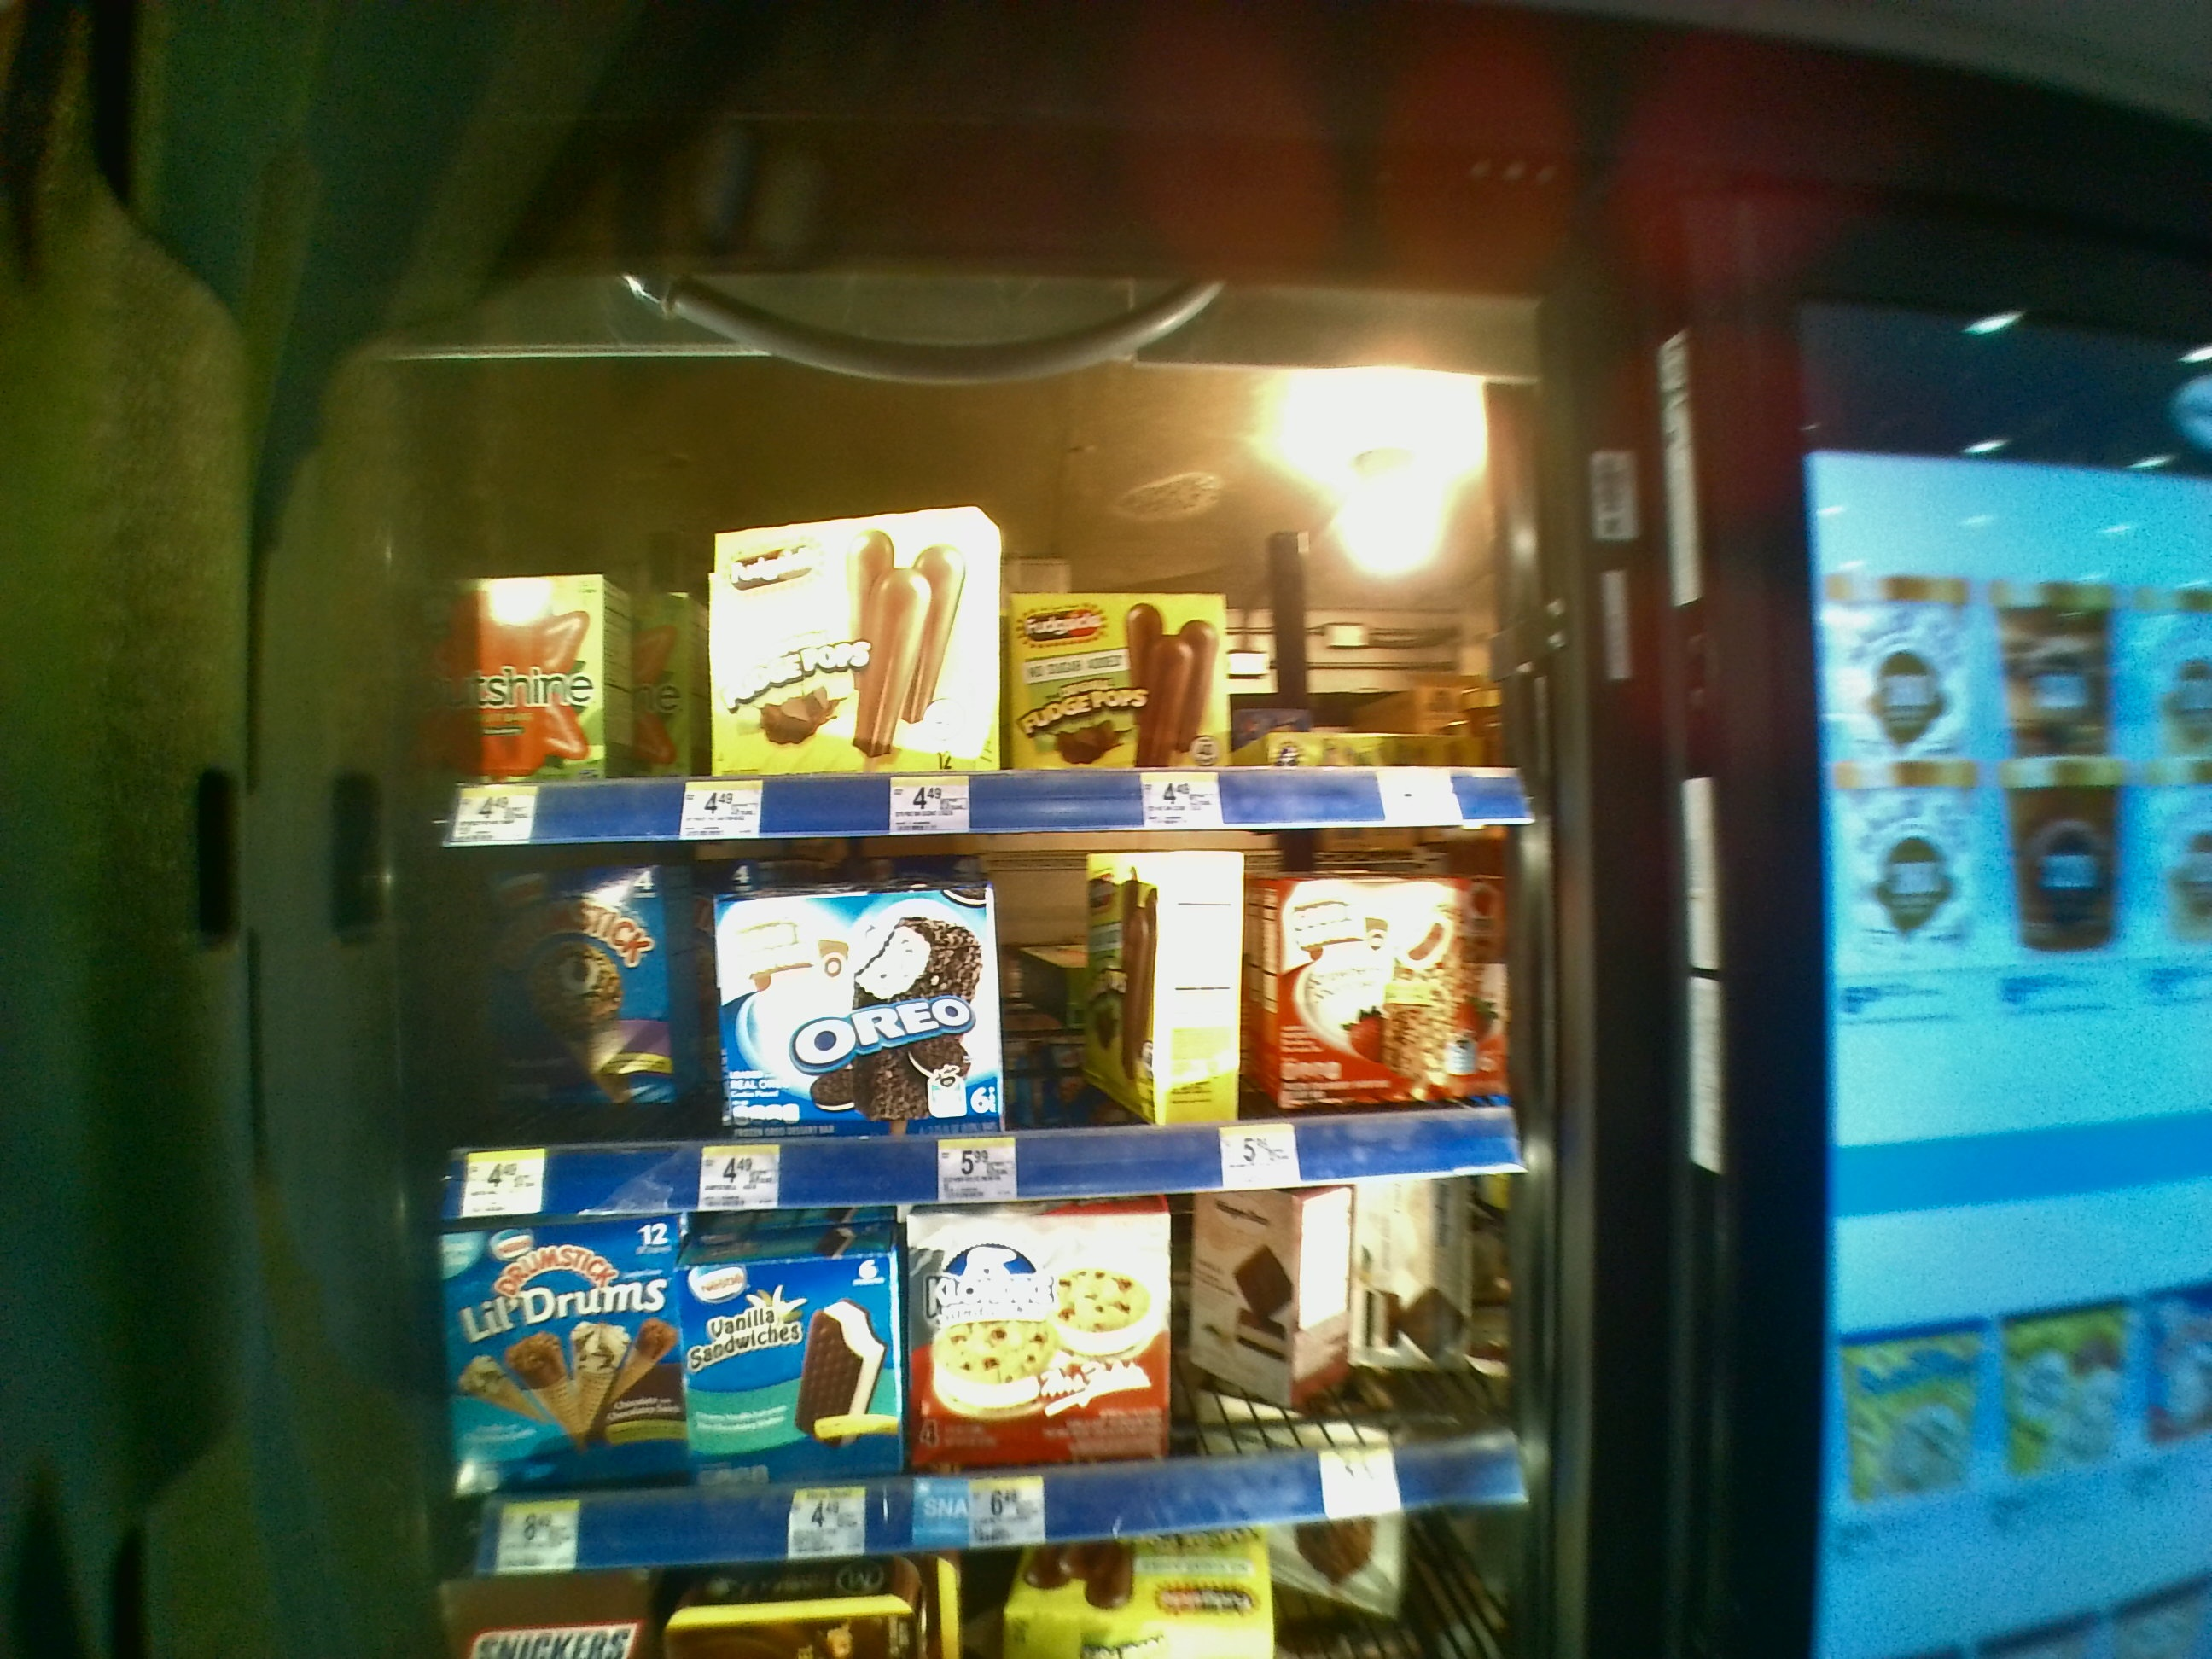shelf: (406, 432, 1514, 833), (428, 1209, 1519, 1570), (415, 852, 1514, 1201)
